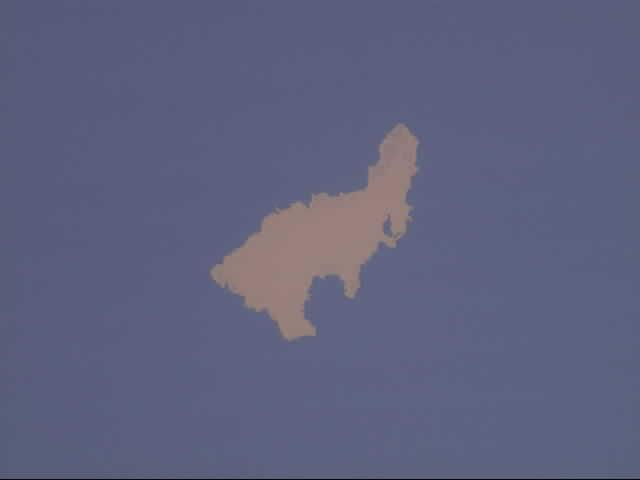BLOCK ETCH: (210, 121, 426, 348)
